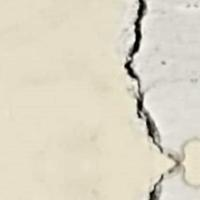crack: (115, 0, 195, 199)
